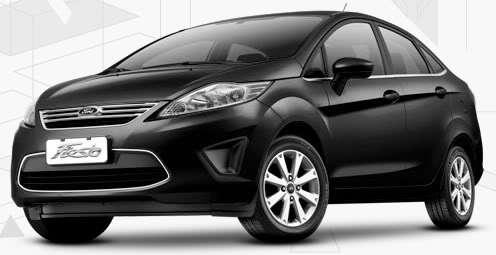car: (10, 1, 484, 246)
